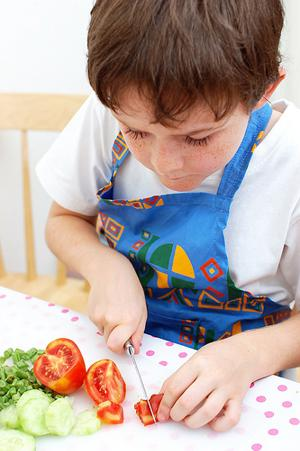person: (33, 1, 300, 433)
